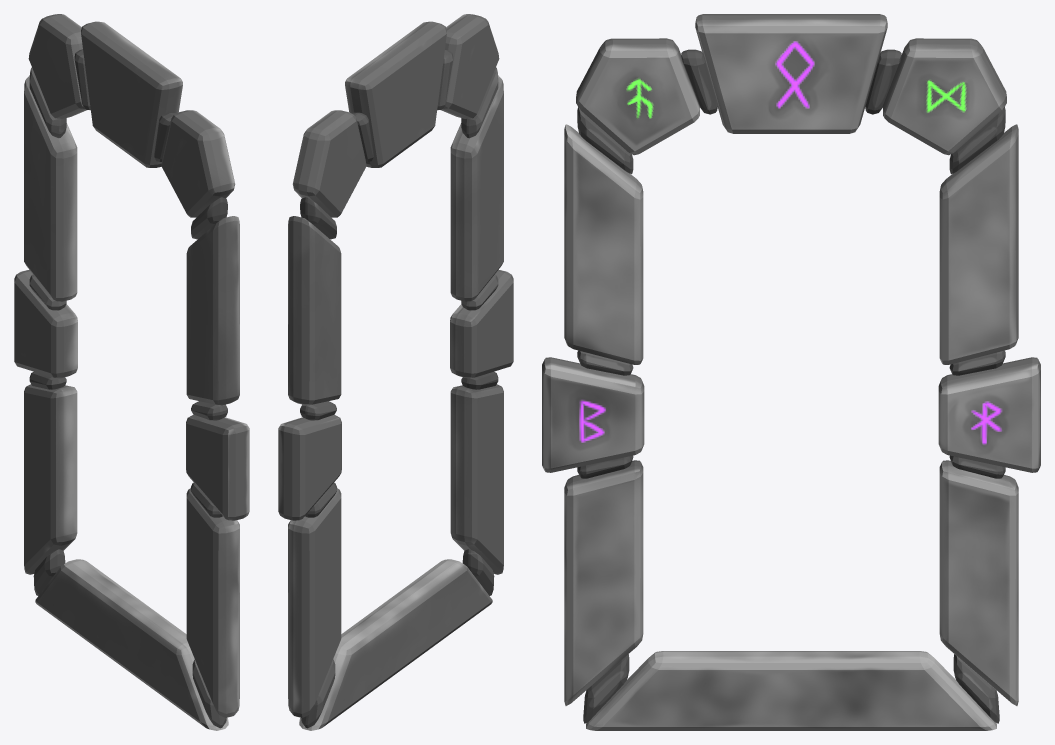
File: Mirror.fbx
3 views of the same model, side by side, from view 1: azimuth 30°, elevation 25°; view 2: azimuth 150°, elevation 25°; view 3: azimuth 270°, elevation 25° (orthographic). The views are drawn at different scales.
Visible parts, largest first — view 1: Mirror; view 2: Mirror; view 3: Mirror.
Boxes of the visible parts, left/top/right/bottom form: Mirror: left=14, top=14, right=249, bottom=730; Mirror: left=278, top=14, right=513, bottom=730; Mirror: left=542, top=14, right=1040, bottom=730.
Bounding box in the file's own units: 21.04 × 293 × 460.
1 material, 1 textured.
